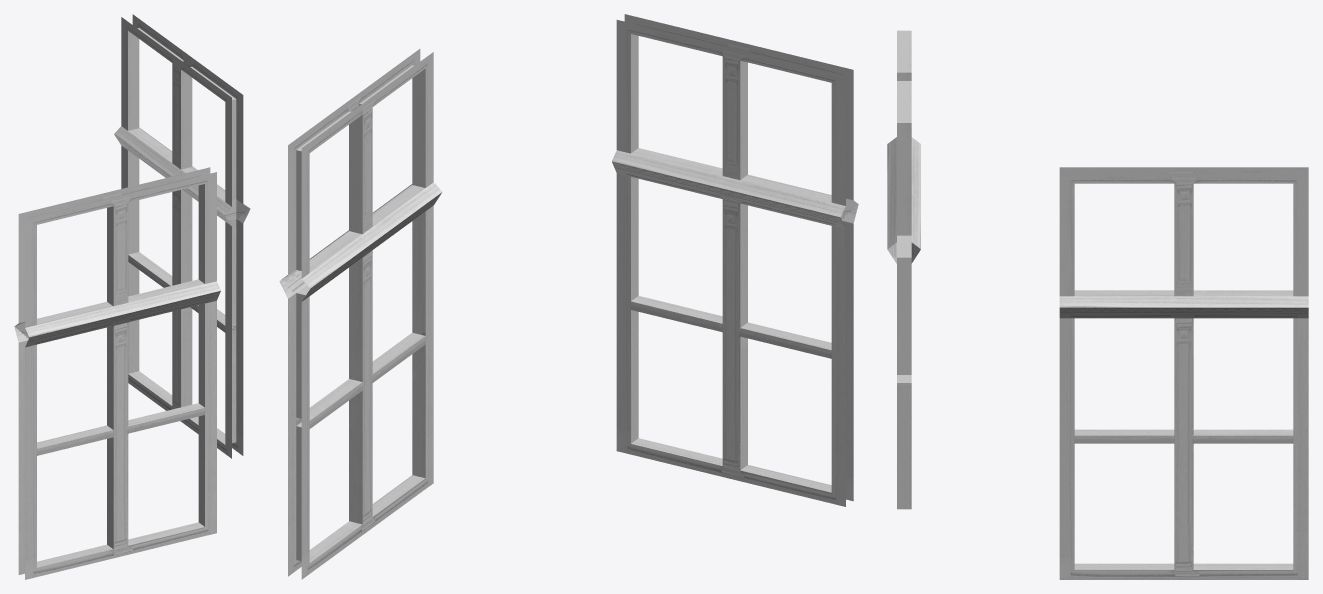
Rendered from WindowCorner1A.fbx.
The picture shows the model from 3 angles, left to right: view 1: azimuth 30°, elevation 25°; view 2: azimuth 150°, elevation 25°; view 3: azimuth 270°, elevation 25°; orthographic projection. The views are drawn at different scales.
Parts seen in each view (by area): view 1: WindowCorner1A; view 2: WindowCorner1A; view 3: WindowCorner1A.
Boxes of the visible parts, box(x1,y1,x2,y2) form: WindowCorner1A: box(14, 14, 250, 579); WindowCorner1A: box(279, 14, 858, 579); WindowCorner1A: box(887, 30, 1308, 579).
Size of the model in its own units: 155 by 180 by 169.
